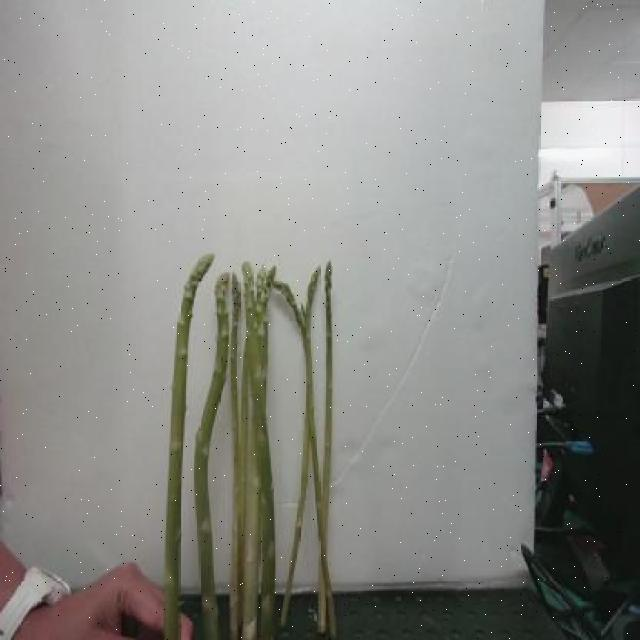aspargus: (163, 255, 214, 640), (193, 273, 235, 640)
